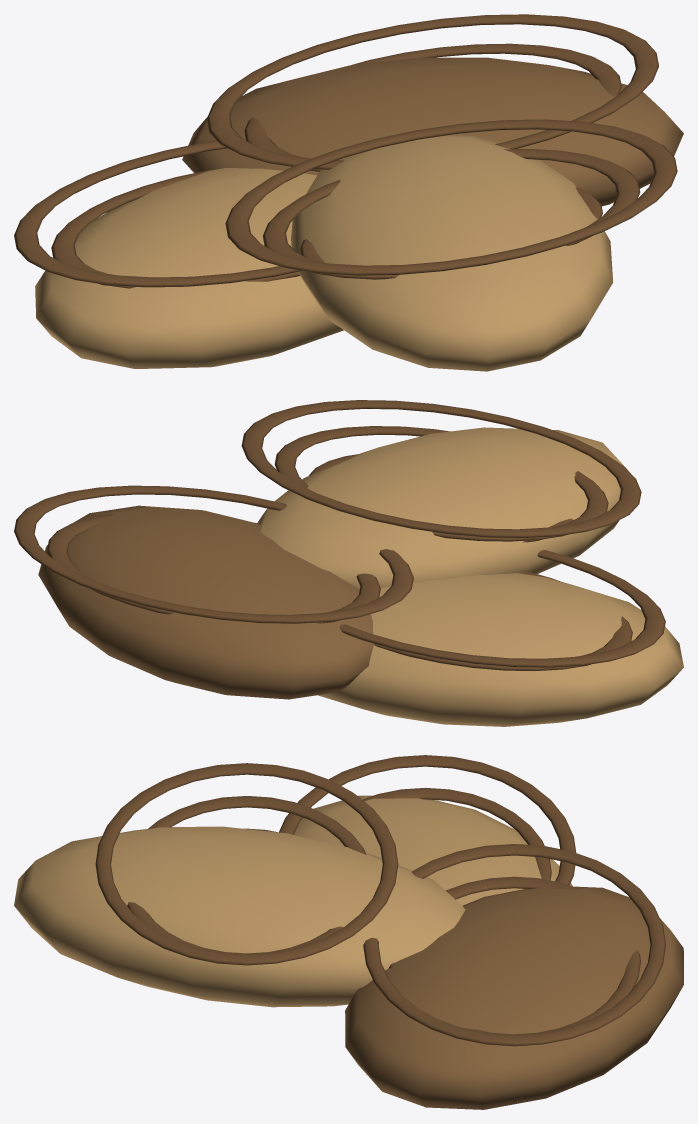
File: chitin.glb
The picture shows the model from 3 angles, top to bottom: view 1: azimuth 30°, elevation 25°; view 2: azimuth 150°, elevation 25°; view 3: azimuth 270°, elevation 25°; orthographic projection. The views are drawn at different scales.
Visible parts, largest first — view 1: Sphere; view 2: Sphere; view 3: Sphere.
Boxes of the visible parts, <box> form: Sphere: <box>14,14,683,371</box>; Sphere: <box>14,400,683,726</box>; Sphere: <box>14,755,683,1109</box>.
Bounding box in the file's own units: 0.1667 × 0.04 × 0.1502.
